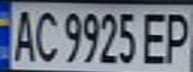2: (100, 9, 121, 65)
5: (115, 8, 142, 65)
9: (57, 8, 84, 64), (78, 8, 100, 64)
A: (6, 6, 39, 62)
C: (30, 7, 60, 63)
E: (139, 9, 172, 65)
P: (160, 8, 193, 65)
